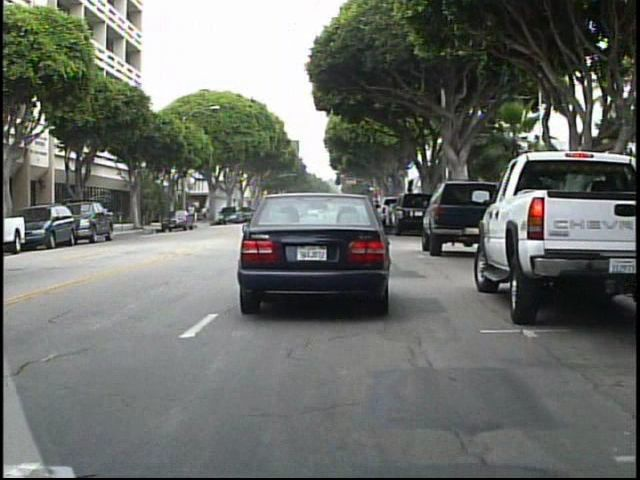person: (186, 202, 198, 227), (200, 202, 211, 226)
